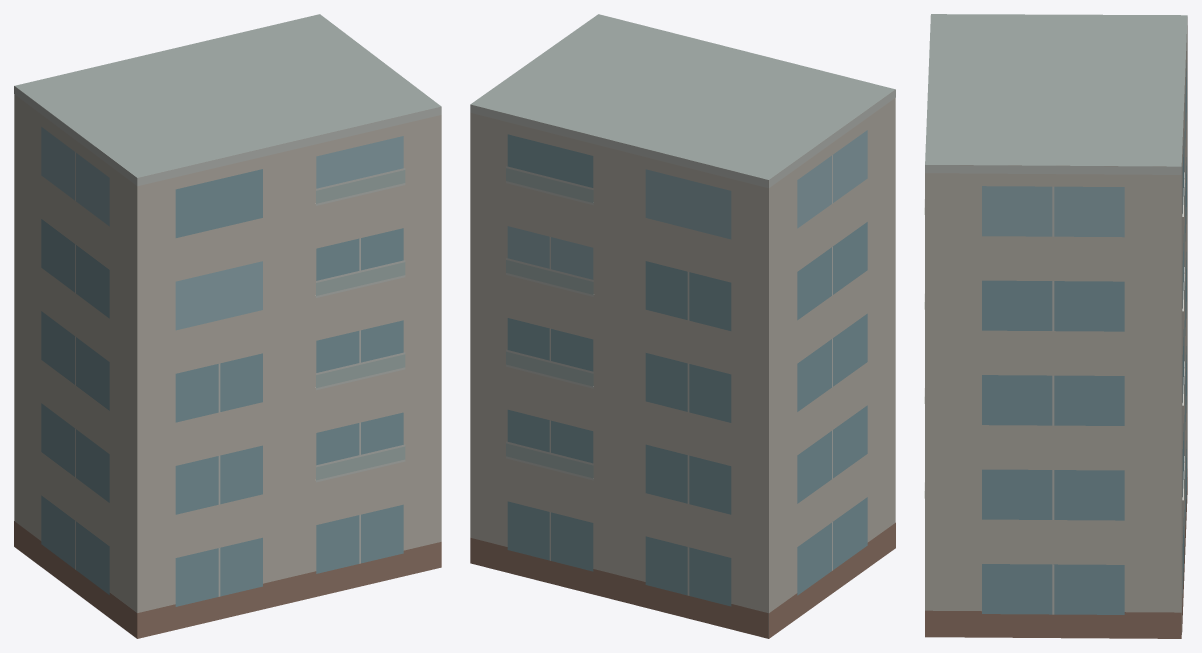
File: survey-upis-33024826.glb
3 renders of one model, left to right at view 1: azimuth 30°, elevation 25°; view 2: azimuth 150°, elevation 25°; view 3: azimuth 270°, elevation 25°, orthographic. The views are drawn at different scales.
Visible parts, largest first — view 1: survey-upis-33024826.tmp; view 2: survey-upis-33024826.tmp; view 3: survey-upis-33024826.tmp.
Part boxes in pixels (x1=…): survey-upis-33024826.tmp: x1=14, y1=14, x2=441, y2=638; survey-upis-33024826.tmp: x1=470, y1=14, x2=895, y2=638; survey-upis-33024826.tmp: x1=924, y1=14, x2=1187, y2=638.
Size of the model in its own units: 9.43 by 13.6 by 6.88.
